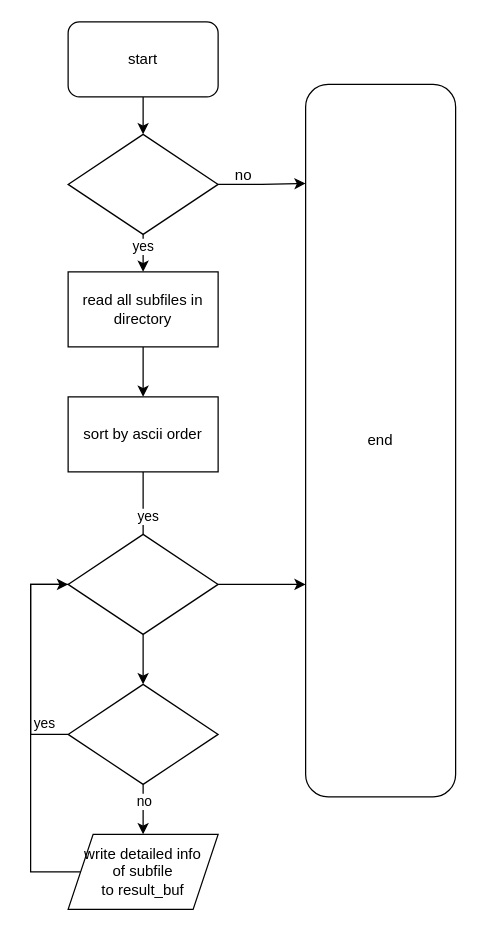
Image size: 478x931. Some labels were removed from this diagram. Here are the shapes that lost their labels. From the top down, the centre of each, then its label:
At point (142, 183): "pathname is directory?".
At point (142, 583): "subfiles".
At point (142, 733): "a option ON && file name starts with '.'?".
